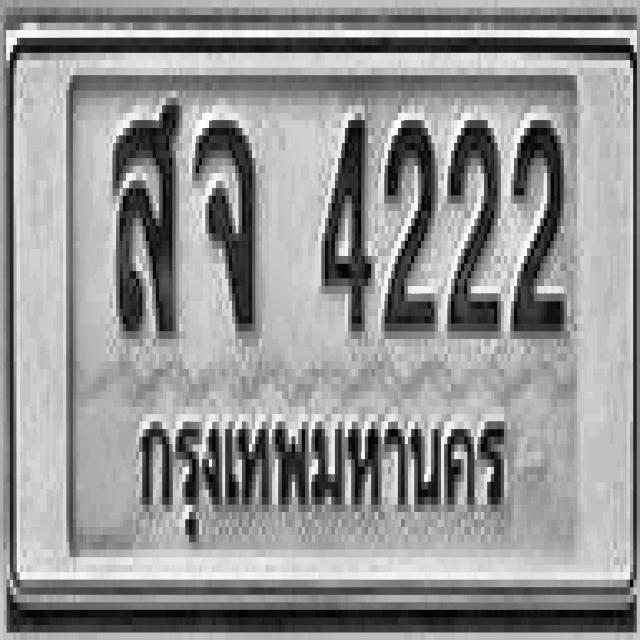license-plate: (9, 37, 633, 596)
